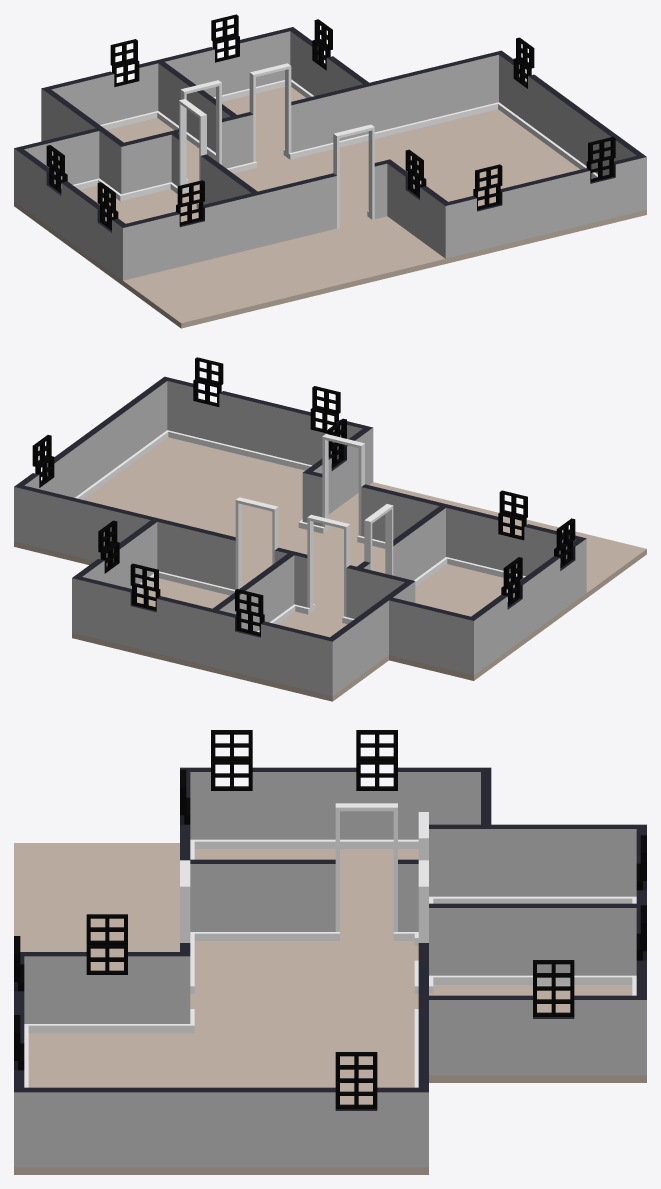
The model's file is bottom.glb.
The picture shows the model from 3 angles, top to bottom: view 1: azimuth 30°, elevation 25°; view 2: azimuth 150°, elevation 25°; view 3: azimuth 270°, elevation 25°; orthographic projection. The views are drawn at different scales.
Parts seen in each view (by area): view 1: Walls, Floor, Trim, Door, Door.001, Door.003, Window, Window.001, Window.004, Window.006, Window.005, Window.003 (+5 smaller); view 2: Walls, Floor, Trim, Door, Door.002, Door.001, Door.003, Window.006, Window.004, Window.005, Window, Window.001 (+5 smaller); view 3: Walls, Floor, Trim, Door.003, Window.008, Window.007, Window.009, Window.003, Window.002, Door, Door.001.
Boxes of the visible parts, bbox=[...] form: Walls: bbox=[14, 27, 646, 280]; Floor: bbox=[14, 86, 646, 328]; Trim: bbox=[73, 79, 597, 216]; Door: bbox=[333, 124, 374, 228]; Door.001: bbox=[249, 63, 291, 161]; Door.003: bbox=[179, 99, 206, 199]; Window: bbox=[110, 39, 139, 86]; Window.001: bbox=[211, 14, 239, 62]; Window.004: bbox=[586, 136, 615, 182]; Window.006: bbox=[176, 180, 204, 225]; Window.005: bbox=[473, 164, 502, 209]; Window.003: bbox=[513, 37, 534, 88]; Walls: bbox=[14, 376, 586, 695]; Floor: bbox=[14, 437, 646, 701]; Trim: bbox=[75, 430, 525, 632]; Door: bbox=[322, 434, 364, 535]; Door.002: bbox=[307, 514, 350, 616]; Door.001: bbox=[235, 497, 278, 589]; Door.003: bbox=[364, 504, 393, 575]; Window.006: bbox=[498, 490, 527, 540]; Window.004: bbox=[193, 357, 223, 406]; Window.005: bbox=[310, 386, 340, 434]; Window: bbox=[235, 589, 264, 636]; Window.001: bbox=[130, 563, 160, 610]; Walls: bbox=[14, 767, 646, 1167]; Floor: bbox=[14, 843, 646, 1174]; Trim: bbox=[24, 839, 636, 1087]; Door.003: bbox=[335, 803, 397, 931]; Window.008: bbox=[356, 730, 397, 790]; Window.007: bbox=[211, 730, 252, 790]; Window.009: bbox=[86, 914, 127, 974]; Window.003: bbox=[335, 1052, 377, 1109]; Window.002: bbox=[533, 960, 574, 1016]; Door: bbox=[180, 860, 190, 942]; Door.001: bbox=[418, 860, 428, 942].
Bounding box in the file's own units: 37 × 7.4 × 30.5.
Materials: 16 (1 with a texture image).
